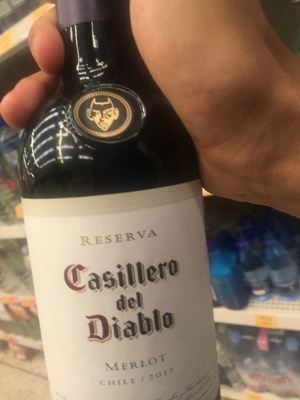casillero del diablo merlot: (15, 11, 222, 400)
